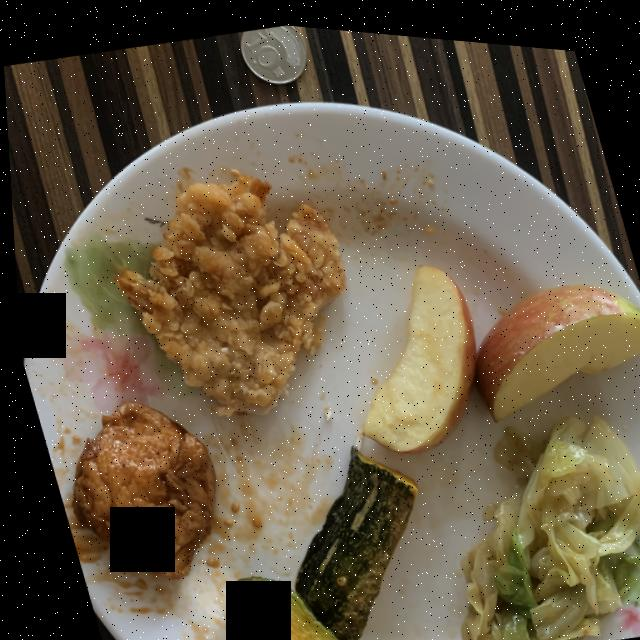apple -sliced-: (357, 257, 640, 445)
cabbage: (442, 405, 640, 640)
coin: (240, 20, 307, 79)
creamy tofu: (66, 400, 210, 576)
fried chicken cutlet: (112, 169, 342, 412)
pumpkin: (224, 441, 412, 640)
